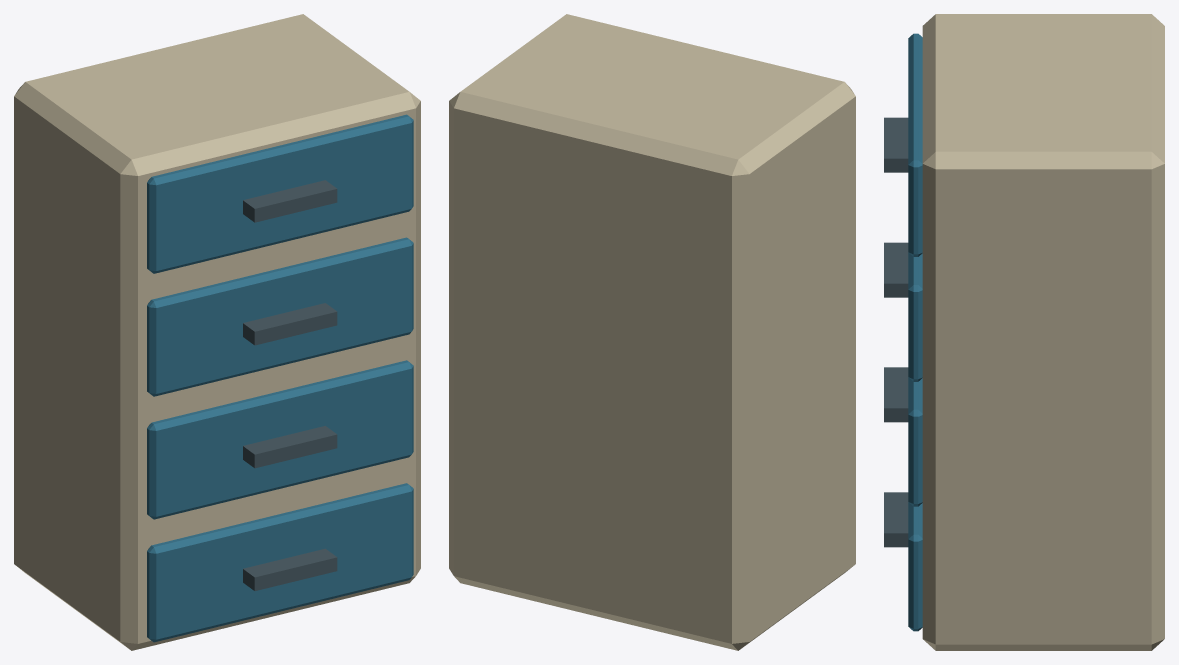
File: filing_cabinet.glb
3 views of the same model, side by side, from view 1: azimuth 30°, elevation 25°; view 2: azimuth 150°, elevation 25°; view 3: azimuth 270°, elevation 25° (orthographic).
Visible parts, largest first — view 1: filing_cabinet; view 2: filing_cabinet; view 3: filing_cabinet.
Part boxes in pixels (bbox=[...]): filing_cabinet: bbox=[14, 14, 420, 650]; filing_cabinet: bbox=[449, 14, 855, 650]; filing_cabinet: bbox=[884, 14, 1164, 650].
Size of the model in its own units: 0.8 by 1.25 by 0.6375.
